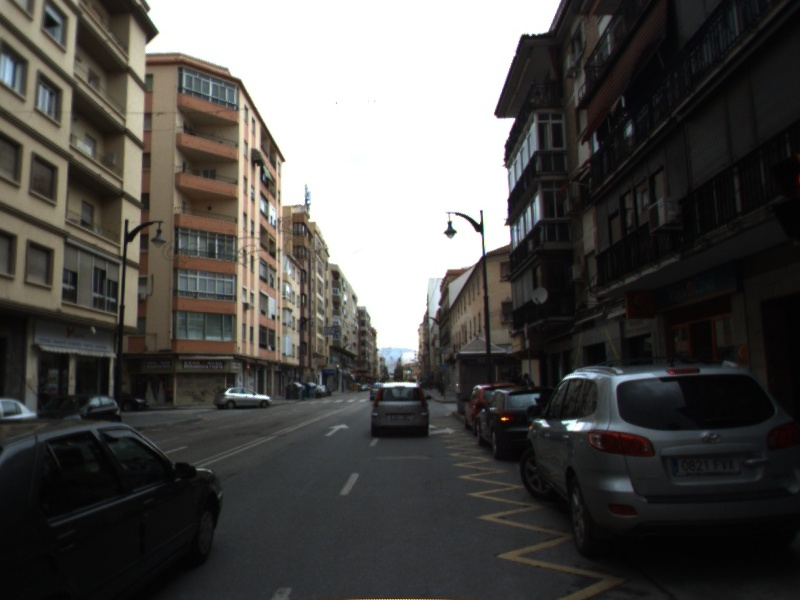STRAIGHT: (322, 422, 351, 438)
